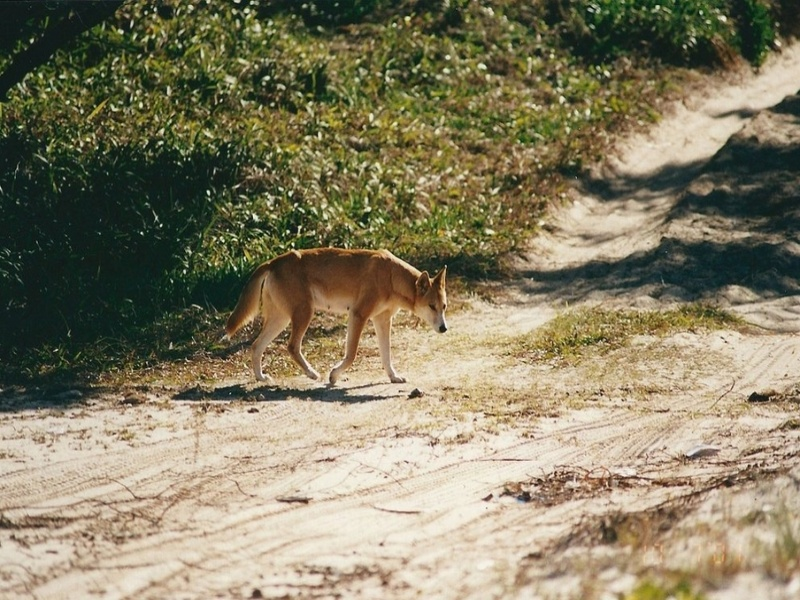dog: (220, 244, 456, 397)
